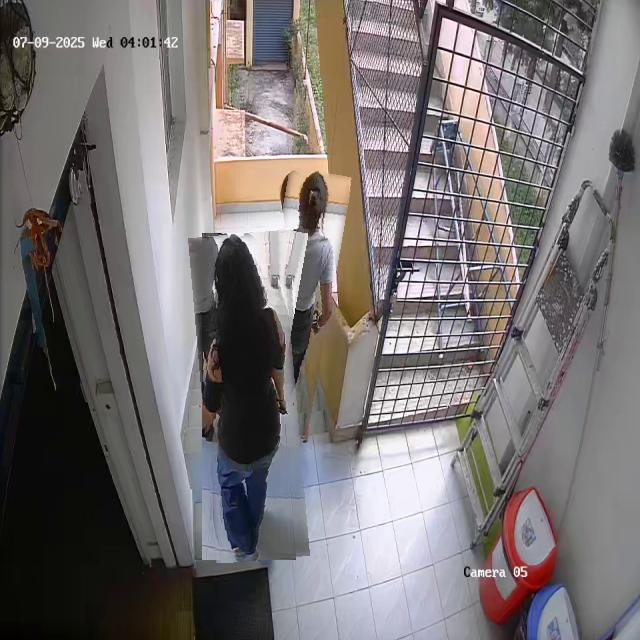person: (195, 232, 304, 561), (255, 168, 342, 437)
